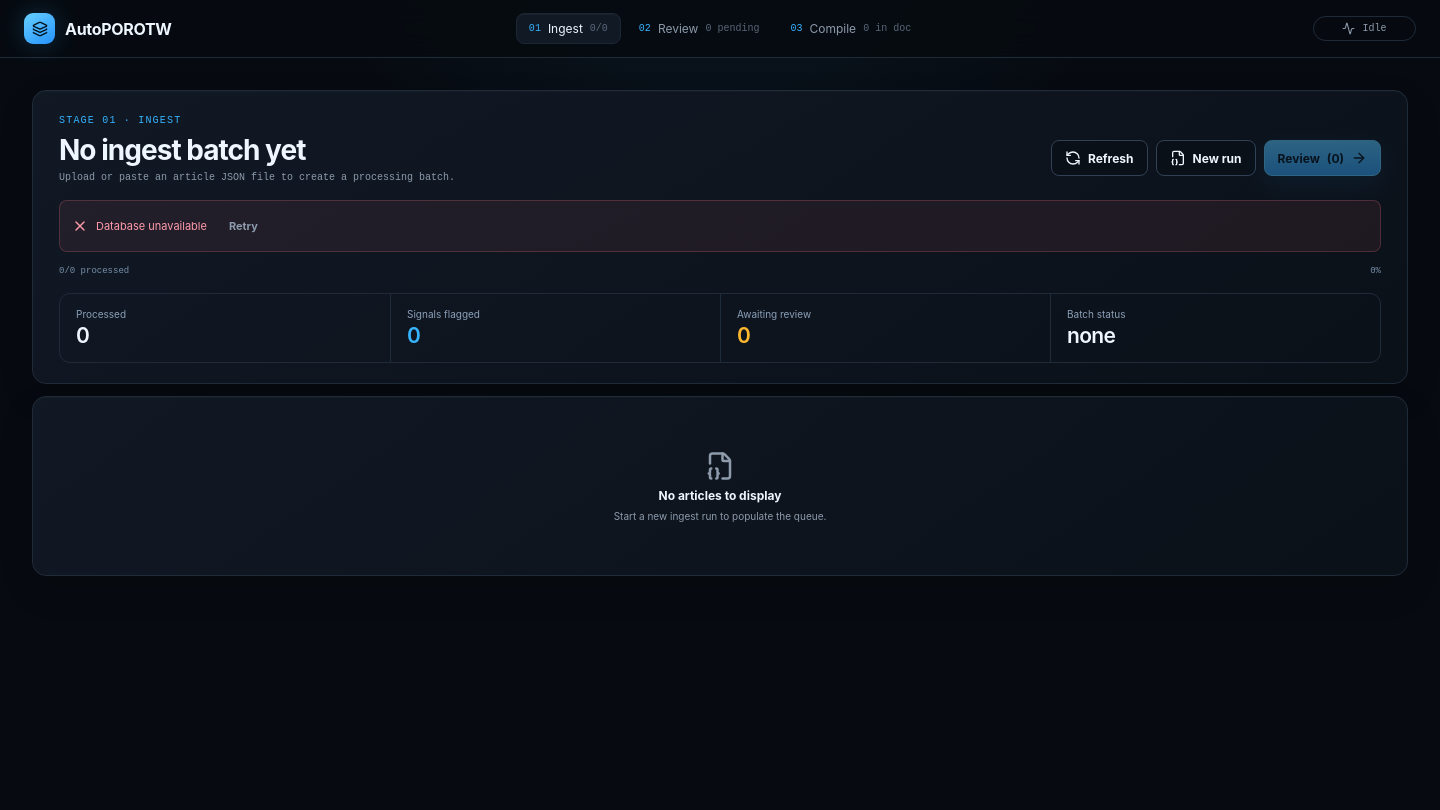
Test: AutoPOROTW API integration › offers a retry after a backend error
Check: the message shows "Database unavailable", box [96,219,207,233]
Click the button "Retry".
click(243, 226)  # box [215,211,272,241]
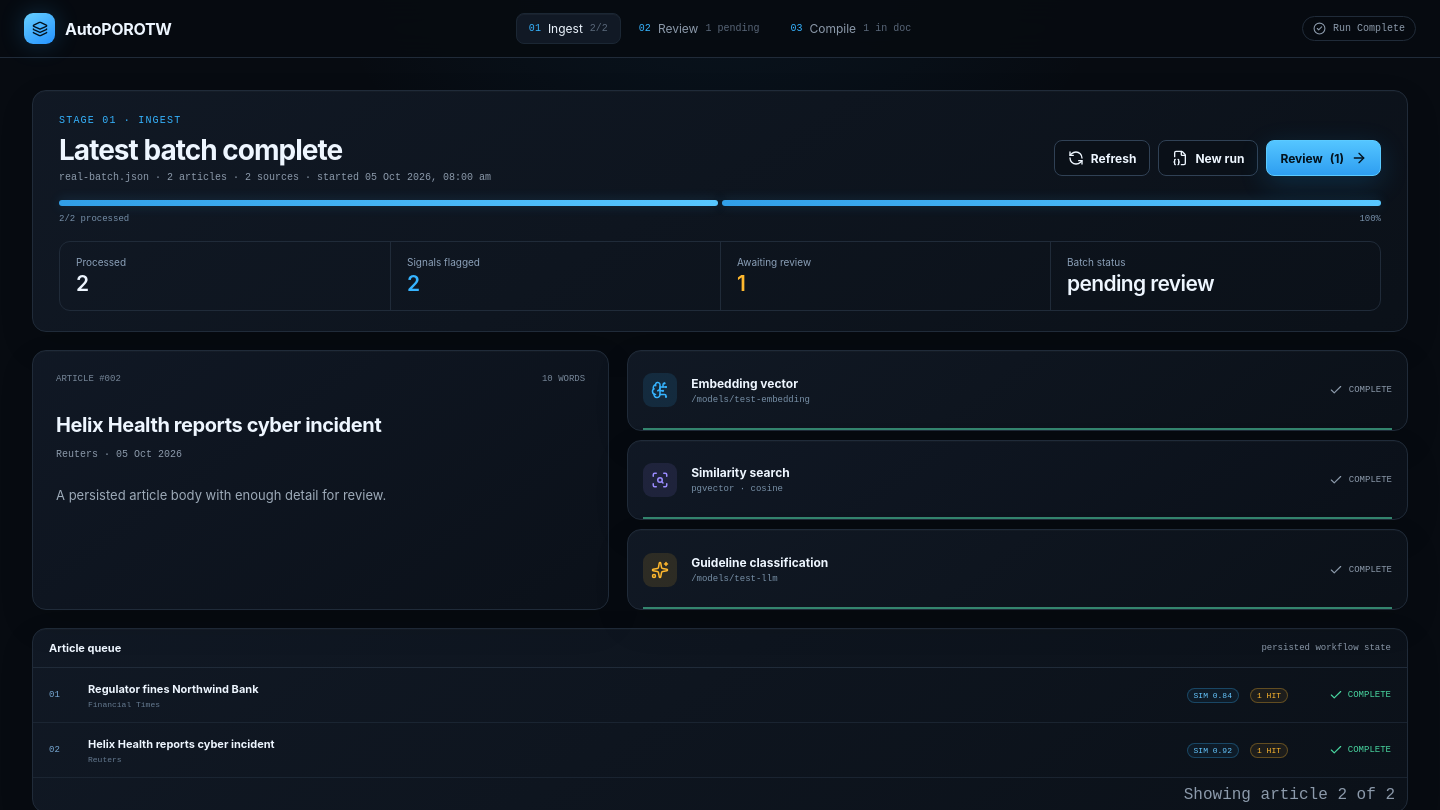
Check: the text "Regulator fines Northwind Bank" is shown, box [88,682,258,696]
